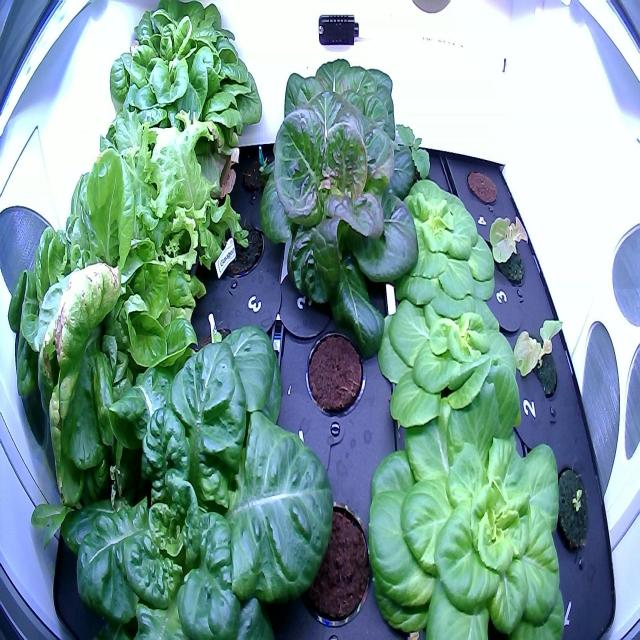Ready: (54, 306, 339, 636), (4, 148, 201, 501), (253, 96, 419, 368), (98, 2, 266, 213), (270, 53, 406, 218)
germination: (238, 140, 284, 202)
pod: (282, 486, 376, 636), (299, 322, 370, 426), (462, 159, 504, 215)
young: (351, 364, 570, 636), (368, 266, 528, 470), (373, 169, 504, 329), (507, 294, 568, 415), (546, 456, 595, 564), (478, 202, 533, 298), (208, 206, 270, 288)
